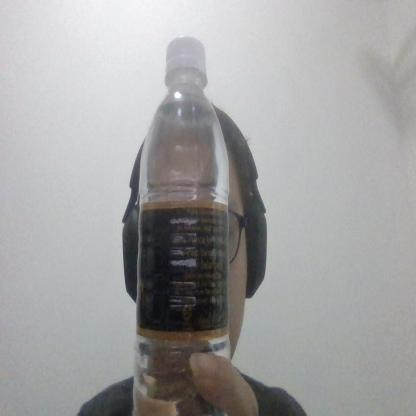plastic_bottles: (131, 33, 233, 416)
